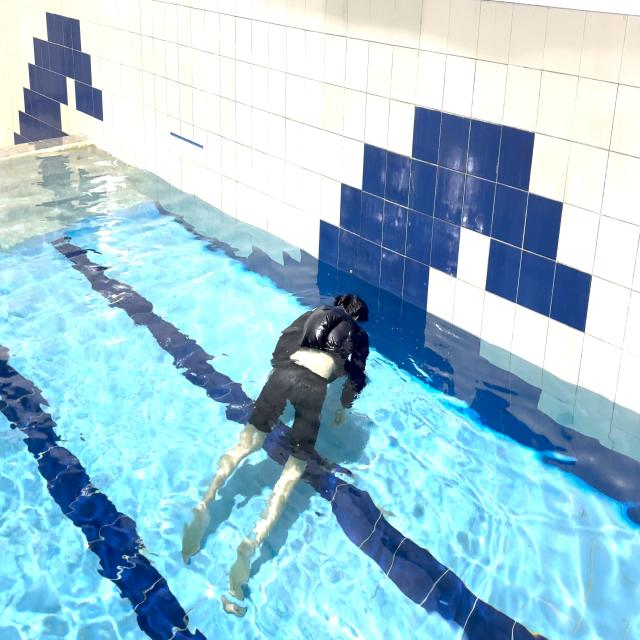Drowning: (183, 274, 382, 632)
